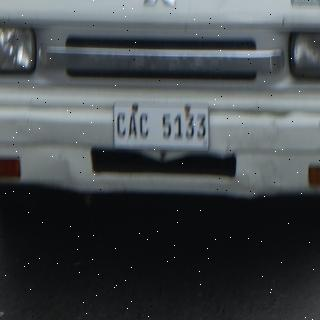license: (115, 104, 210, 152)
